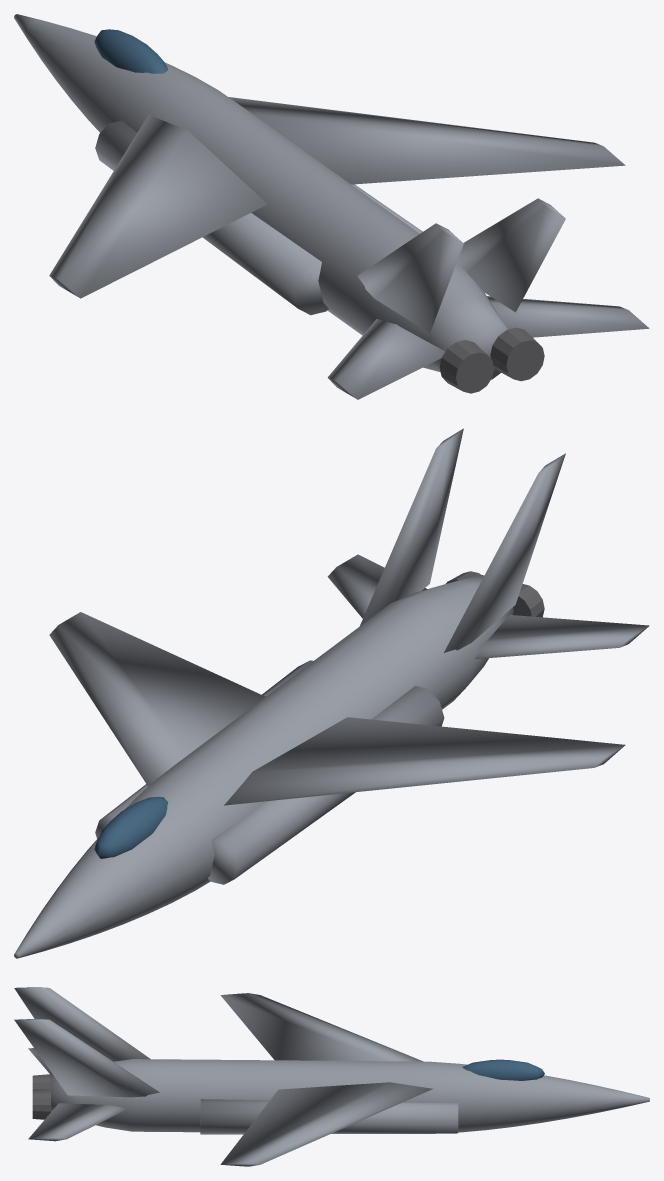
3 views of the same model, one above another, from view 1: azimuth 30°, elevation 25°; view 2: azimuth 150°, elevation 25°; view 3: azimuth 270°, elevation 25° (orthographic). The views are drawn at different scales.
Visible parts, largest first — view 1: Body, Detail, Canopy; view 2: Body, Canopy, Detail; view 3: Body, Canopy, Detail.
Part boxes in pixels (x1=…): Body: x1=14, y1=14, x2=649, y2=399; Detail: x1=439, y1=327, x2=544, y2=393; Canopy: x1=94, y1=29, x2=167, y2=73; Body: x1=14, y1=428, x2=649, y2=958; Canopy: x1=94, y1=796, x2=168, y2=858; Detail: x1=446, y1=571, x2=544, y2=617; Body: x1=14, y1=987, x2=649, y2=1166; Canopy: x1=462, y1=1059, x2=544, y2=1080; Detail: x1=32, y1=1074, x2=50, y2=1119.
Bounding box in the file's own units: 1300 × 453 × 2059.
